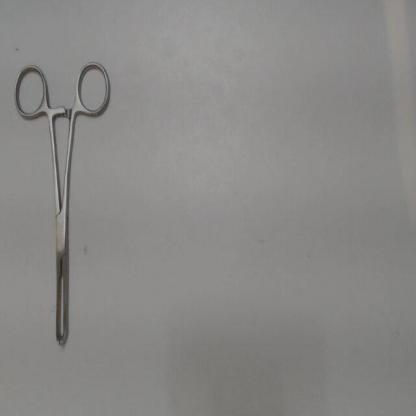Allis Tissue Forceps: (4, 57, 120, 368)
